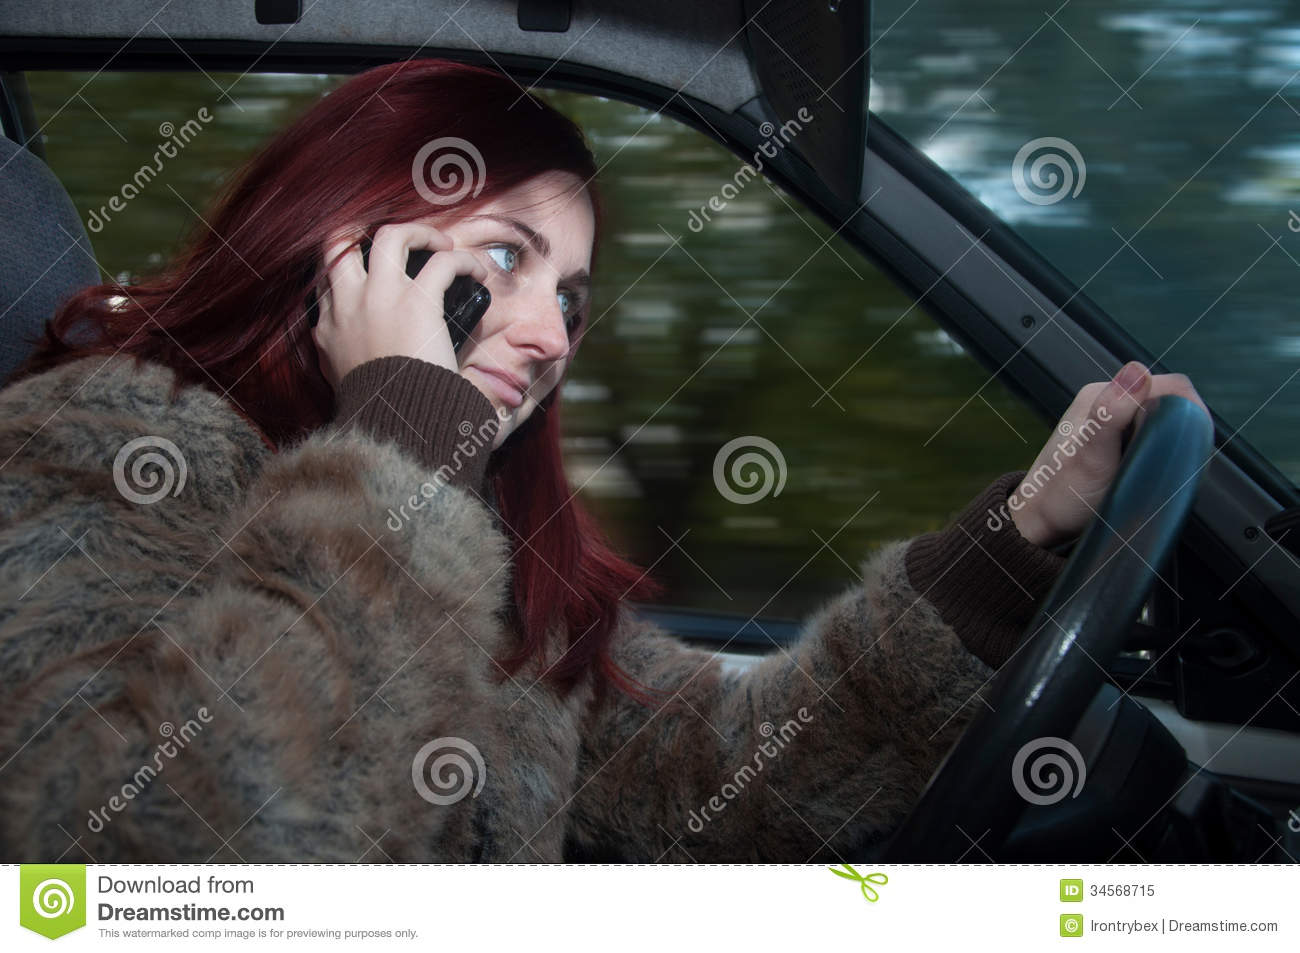talk: (314, 198, 595, 468)
